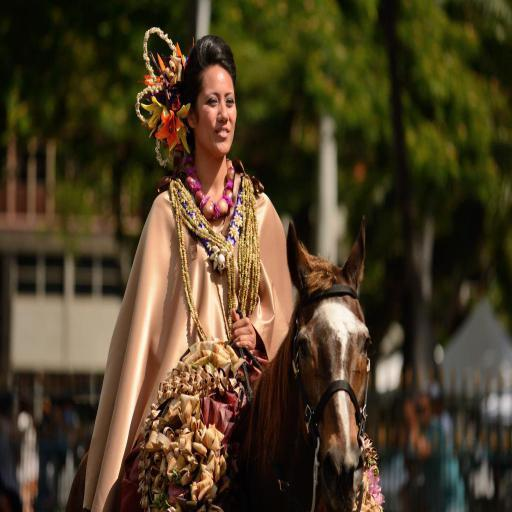horse: (65, 214, 372, 512)
